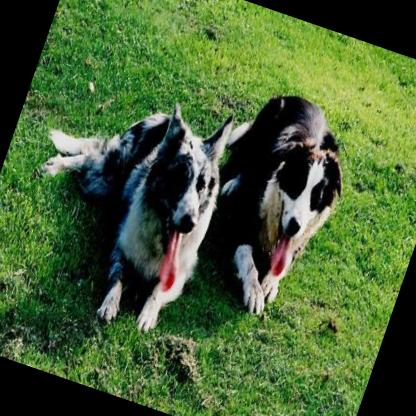Border_collie: (0, 57, 246, 339), (174, 76, 368, 330)
